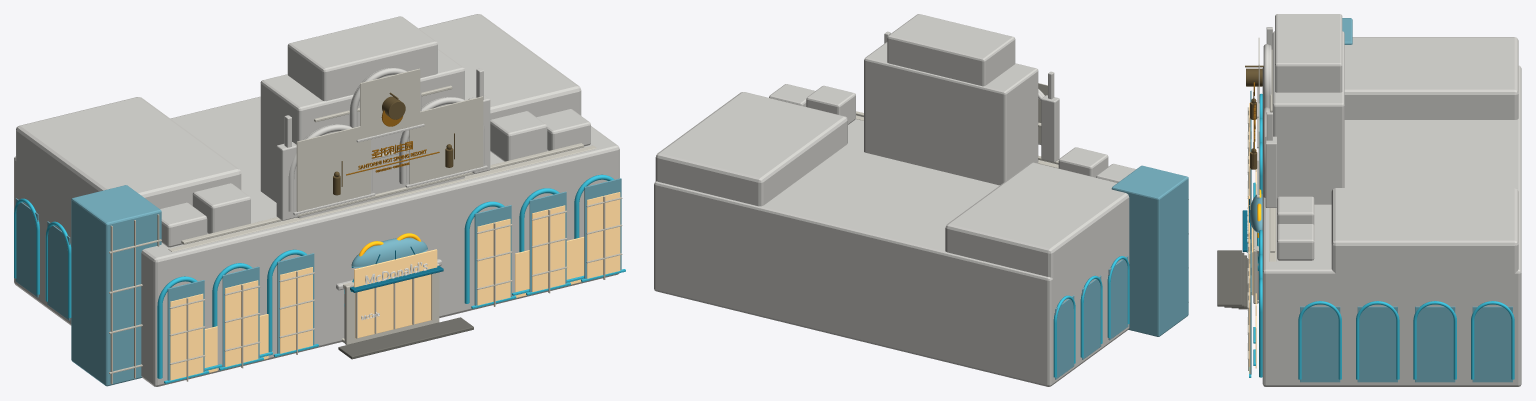
The model's file is Santorini_Hot_Spring_Resort_McDonalds.fbx.
3 renders of one model, left to right at view 1: azimuth 30°, elevation 25°; view 2: azimuth 150°, elevation 25°; view 3: azimuth 270°, elevation 25°, orthographic. The views are drawn at different scales.
Visible parts, largest first — view 1: Host_main_white_shell, Host_left_rear_wing, Glass_elevator_volume, Host_right_rear_wing, Central_tower_core, Central_tower_top, Tower_arch_-4.1_recess, Tower_arch_4.1_recess, Entrance_glazing, Tower_arch_0_recess, Window_warm_back_1_0, Window_warm_back_-1_1 (+36 smaller); view 2: Host_main_white_shell, Central_tower_core, Host_left_rear_wing, Host_right_rear_wing, Glass_elevator_volume, Central_tower_top, Side_glass_-1_1, Side_glass_-1_2, Side_glass_-1_3, Tower_side_pier_-7.0, Parapet_1_1, Parapet_-1_1 (+5 smaller); view 3: Host_main_white_shell, Host_right_rear_wing, Host_left_rear_wing, Central_tower_core, Central_tower_top, Side_glass_1_0, Side_glass_1_3, Side_glass_1_1, Side_glass_1_2, Entrance_step_3, Parapet_1_0, Parapet_1_1 (+14 smaller).
Part boxes in pixels (<box>): Host_main_white_shell: <box>14,96,619,386</box>; Host_left_rear_wing: <box>16,97,241,322</box>; Glass_elevator_volume: <box>71,185,161,386</box>; Host_right_rear_wing: <box>419,14,581,119</box>; Central_tower_core: <box>260,49,464,218</box>; Central_tower_top: <box>287,16,437,101</box>; Tower_arch_-4.1_recess: <box>296,124,370,211</box>; Tower_arch_4.1_recess: <box>409,96,483,184</box>; Entrance_glazing: <box>355,274,431,338</box>; Tower_arch_0_recess: <box>360,68,420,136</box>; Window_warm_back_1_0: <box>477,219,510,305</box>; Window_warm_back_-1_1: <box>225,280,258,366</box>; Host_main_white_shell: <box>654,115,1129,386</box>; Central_tower_core: <box>864,42,1038,185</box>; Host_left_rear_wing: <box>945,162,1129,380</box>; Host_right_rear_wing: <box>655,92,847,206</box>; Glass_elevator_volume: <box>1111,165,1188,336</box>; Central_tower_top: <box>887,14,1015,86</box>; Side_glass_-1_1: <box>1108,255,1128,340</box>; Side_glass_-1_2: <box>1082,275,1101,359</box>; Side_glass_-1_3: <box>1055,295,1074,379</box>; Tower_side_pier_-7.0: <box>1041,95,1059,162</box>; Parapet_1_1: <box>806,85,855,124</box>; Parapet_-1_1: <box>1058,147,1108,177</box>; Host_main_white_shell: <box>1262,65,1521,386</box>; Host_right_rear_wing: <box>1331,188,1518,384</box>; Host_left_rear_wing: <box>1344,37,1518,119</box>; Central_tower_core: <box>1272,31,1344,204</box>; Central_tower_top: <box>1275,14,1342,92</box>; Side_glass_1_0: <box>1300,306,1340,382</box>; Side_glass_1_3: <box>1472,306,1512,382</box>; Side_glass_1_1: <box>1357,306,1397,382</box>; Side_glass_1_2: <box>1415,306,1455,382</box>; Entrance_step_3: <box>1217,250,1241,306</box>; Parapet_1_0: <box>1277,224,1314,260</box>; Parapet_1_1: <box>1277,196,1314,225</box>.
Size of the model in its own units: 3677 by 1890 by 2115.
